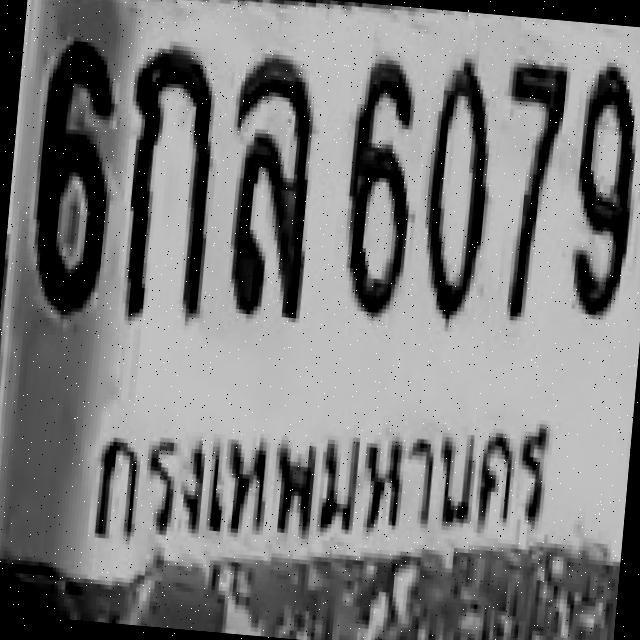0: (415, 54, 498, 324)
10GorGai: (114, 41, 218, 318)
45LorLing: (218, 51, 322, 318)
6: (23, 36, 118, 311), (334, 52, 422, 318)
7: (488, 58, 568, 318), (494, 58, 570, 269), (496, 58, 568, 239), (499, 60, 569, 220)
9: (561, 62, 640, 319)
Bangkok: (81, 405, 571, 565)
